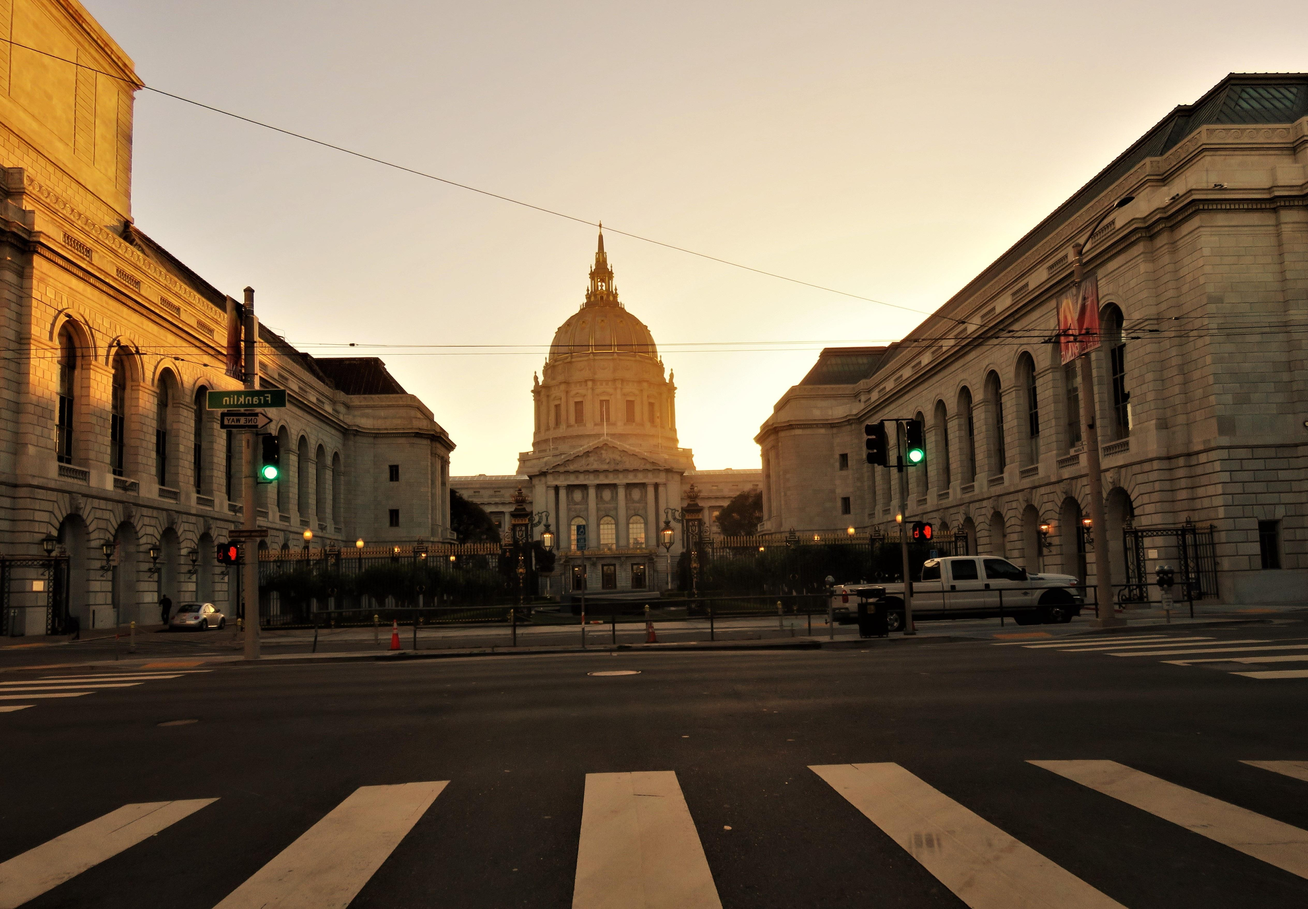Traffic light green: (241, 429, 300, 484)
